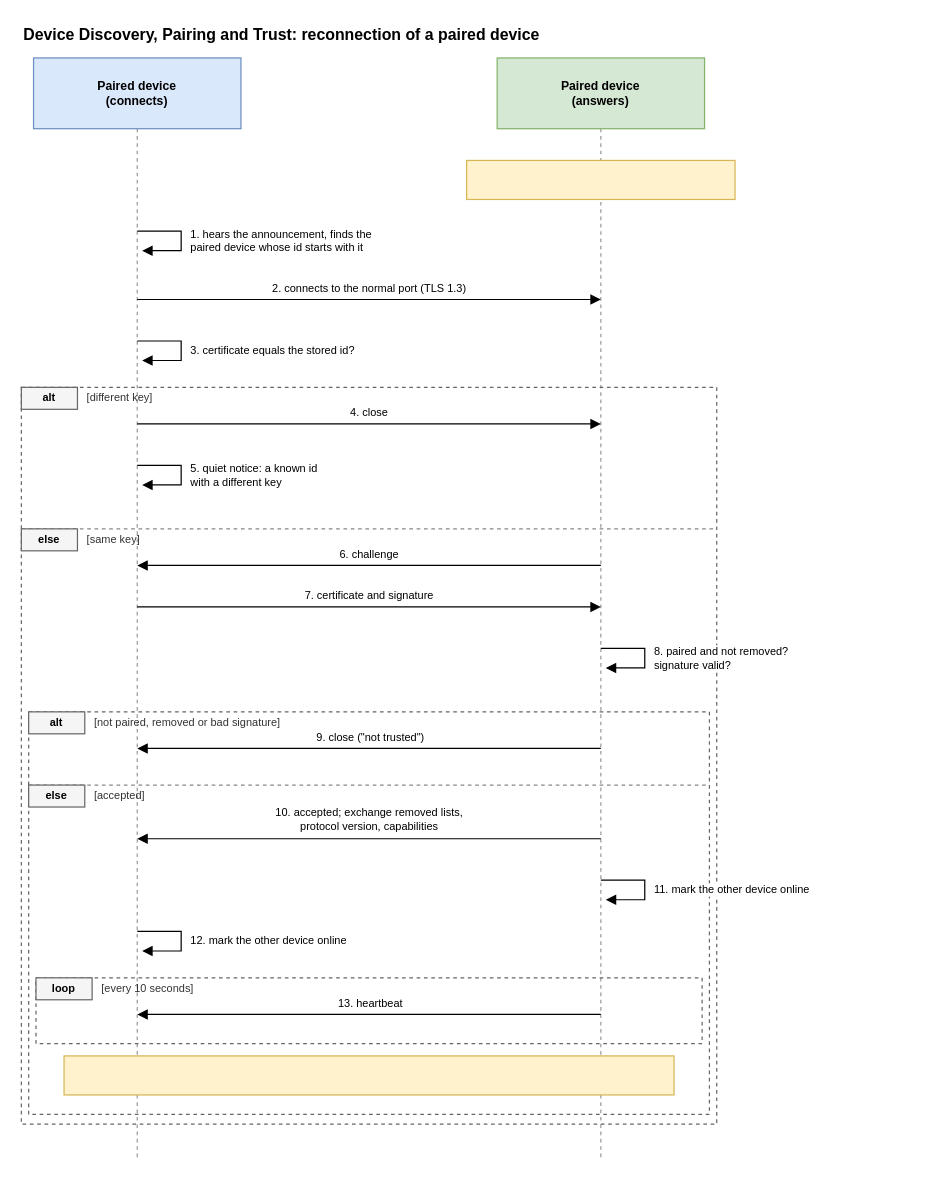
Some shapes in this 939 by 1181 pixel diagram are drawn without their labels. The shapes that lost their labels are listed below. From the top down, each one's centre as x and y in pixels, then its label:
the point at 600,179: The answering device announces its service with a short id
the point at 368,1075: 3 missed heartbeats mean offline (used by the offline-device records)
